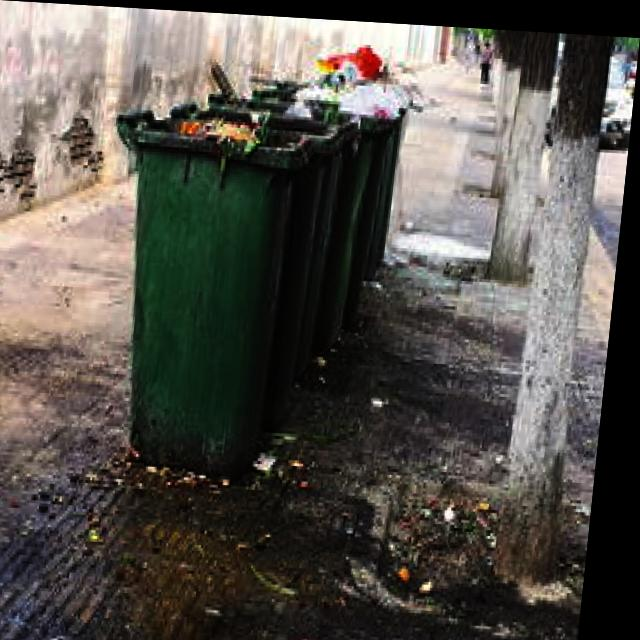overflow: (91, 93, 308, 472)
